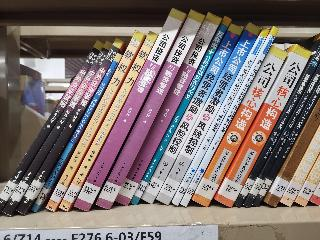book-spine: (73, 7, 187, 213), (96, 9, 206, 211), (113, 12, 223, 208), (2, 38, 113, 218), (137, 22, 245, 205), (130, 15, 232, 206), (156, 22, 262, 205), (16, 37, 124, 215), (43, 29, 146, 214), (56, 30, 159, 214), (0, 39, 105, 213), (180, 26, 279, 208), (172, 25, 271, 206), (213, 43, 314, 208), (190, 44, 289, 208), (30, 51, 122, 213), (235, 49, 320, 207), (243, 65, 320, 209), (254, 82, 320, 208), (262, 97, 320, 207)
